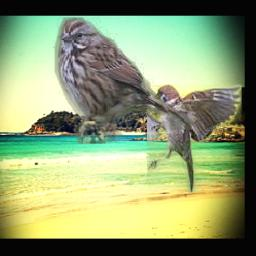Sparrow: (52, 18, 192, 145), (147, 84, 242, 192)
